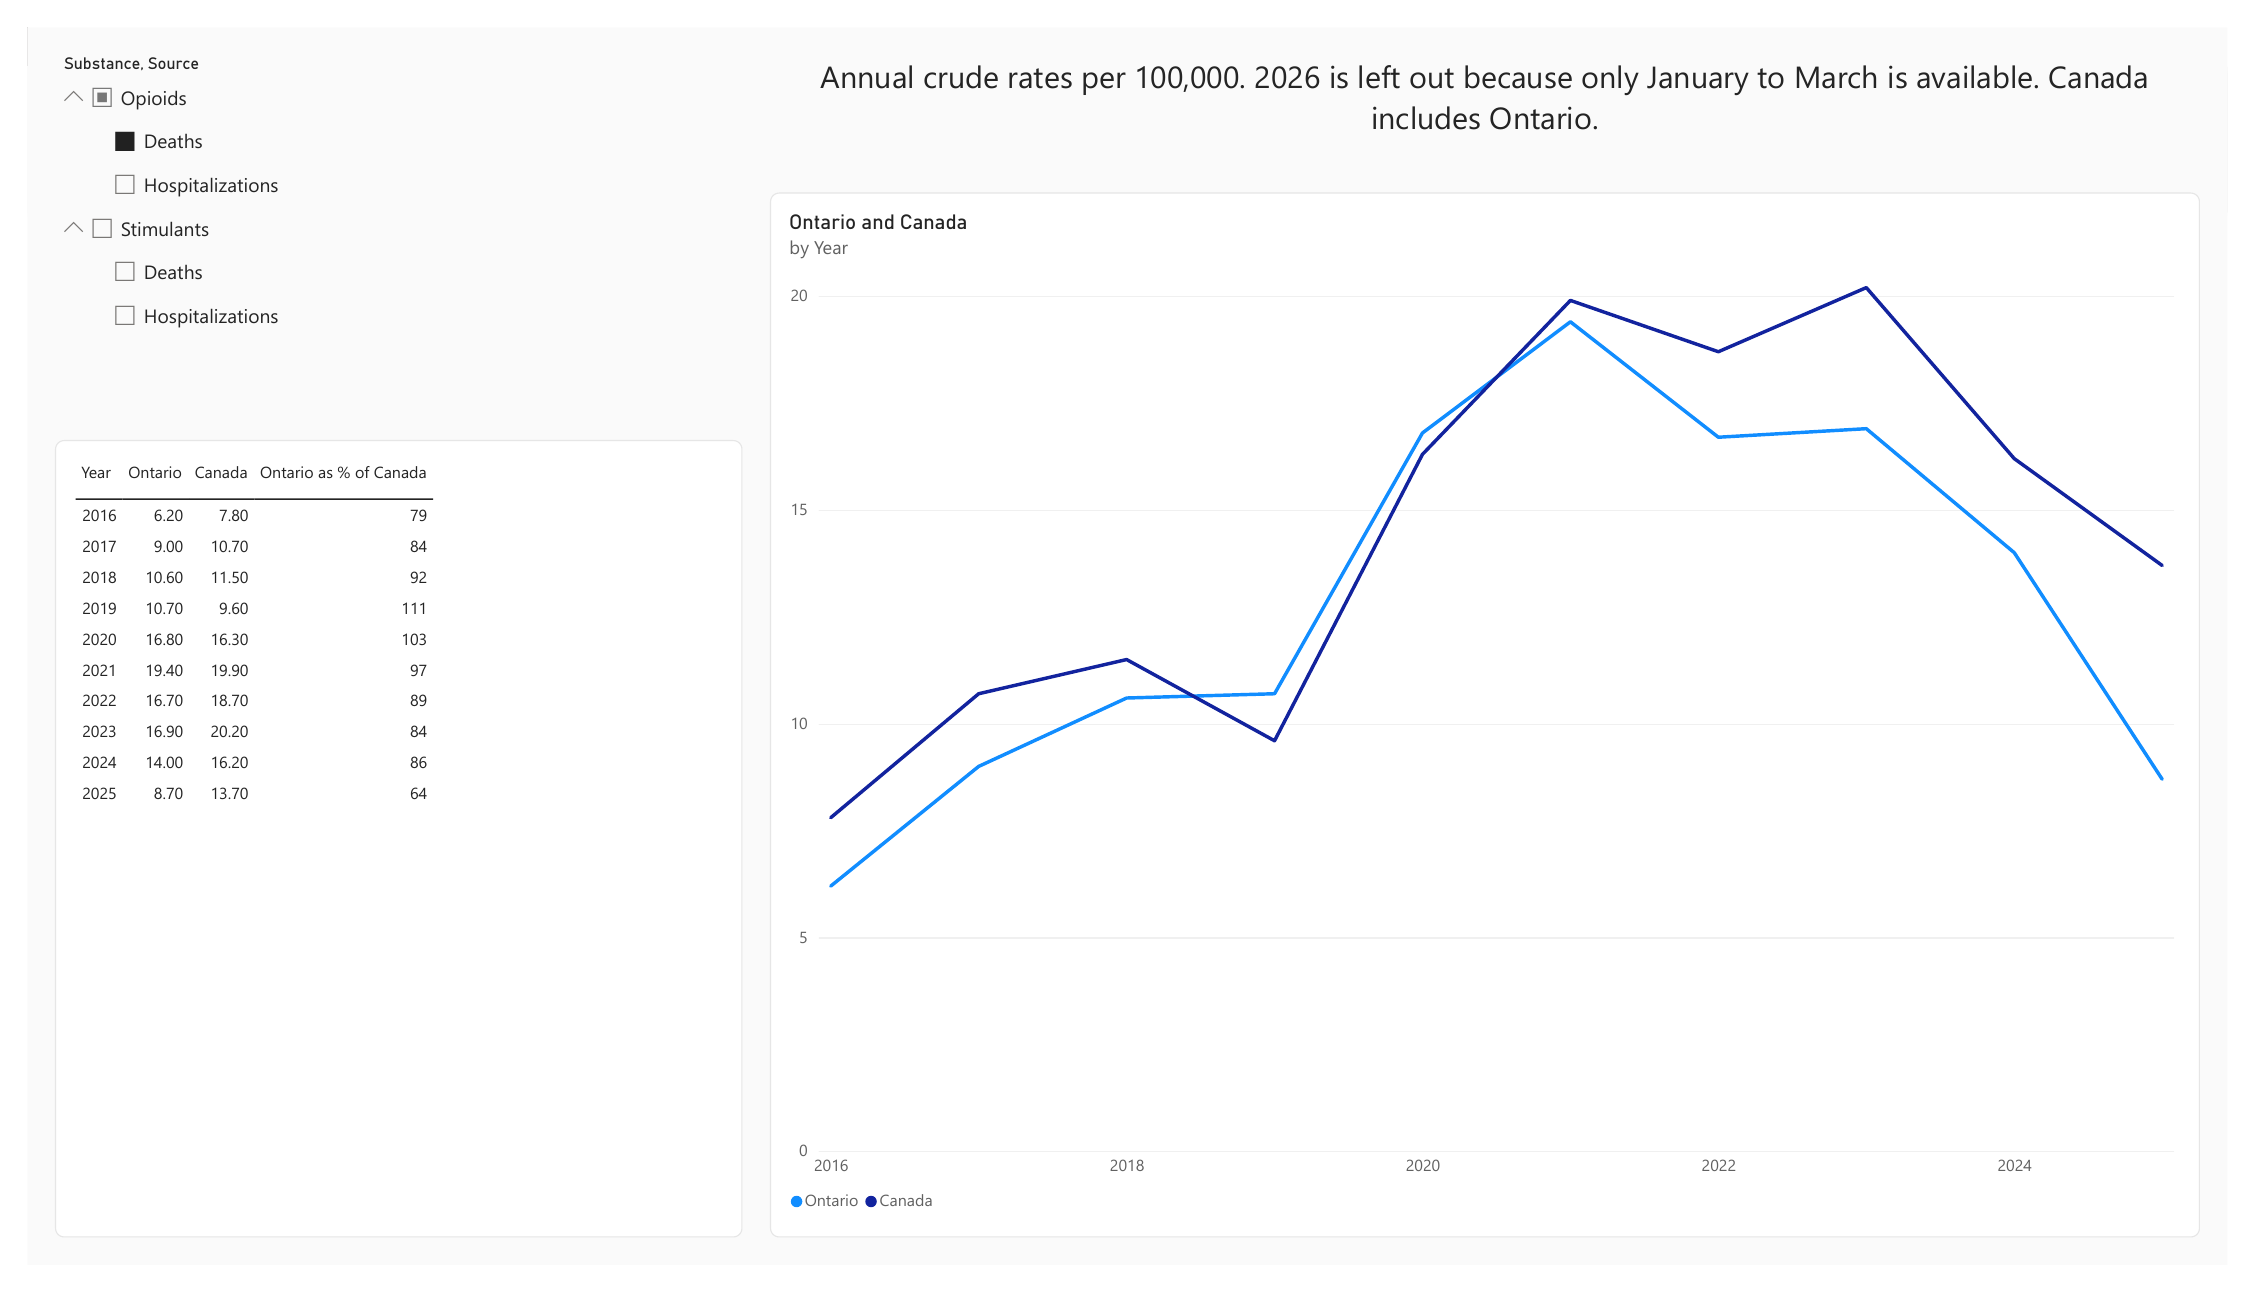

This screenshot's page, from the dashboard's own definition file:
{"tool":"powerbi","page":{"name":"Ontario vs Canada","canvas":[1920,1080],"ordinal":1},"visuals":[{"type":"lineChart","fields":{"Category":["ontario_vs_canada_rates.year"],"Y":["Sum(ontario_vs_canada_rates.Ontario)","Sum(ontario_vs_canada_rates.Canada)"]},"box":[648,144,1248,912],"z":0},{"type":"slicer","fields":{"Values":["ontario_vs_canada_rates.Substance","ontario_vs_canada_rates.Source"]},"box":[24,24,600,312],"z":1000},{"type":"tableEx","fields":{"Values":["ontario_vs_canada_rates.year","Sum(ontario_vs_canada_rates.Ontario)","Sum(ontario_vs_canada_rates.Canada)","Sum(ontario_vs_canada_rates.ontario_pct_of_canada)"]},"box":[24,360,600,696],"z":2000},{"type":"textbox","box":[648,24,1248,96],"z":3000}]}

Visuals, with their boxes on the page's 1920x1080 design canvas (x1, y1, x2, y2). These are canvas units, not pixel positions in the 2255x1293 screenshot, which may show the page scaled, cropped or inside an application window:
lineChart - ontario_vs_canada_rates.year x Sum(ontario_vs_canada_rates.Ontario): region(648, 144, 1896, 1056)
slicer - ontario_vs_canada_rates.Substance x ontario_vs_canada_rates.Source: region(24, 24, 624, 336)
tableEx - ontario_vs_canada_rates.year x Sum(ontario_vs_canada_rates.Ontario): region(24, 360, 624, 1056)
textbox: region(648, 24, 1896, 120)
